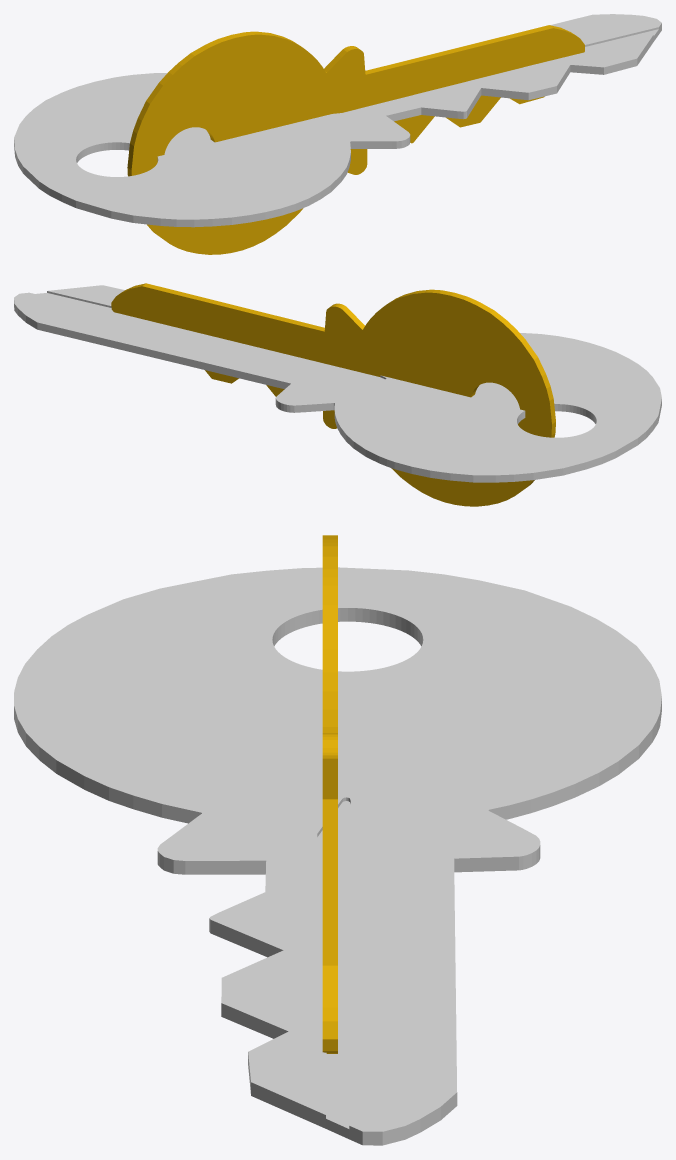
Rendered from simkey.glb.
The picture shows the model from 3 angles, top to bottom: view 1: azimuth 30°, elevation 25°; view 2: azimuth 150°, elevation 25°; view 3: azimuth 270°, elevation 25°; orthographic projection. The views are drawn at different scales.
Parts seen in each view (by area): view 1: Plane.001, Plane; view 2: Plane.001, Plane; view 3: Plane.001, Plane.
Part boxes in pixels (left/top/right/bottom): Plane.001: left=14, top=14, right=661, bottom=227; Plane: left=127, top=25, right=584, bottom=254; Plane.001: left=14, top=285, right=661, bottom=482; Plane: left=111, top=283, right=555, bottom=506; Plane.001: left=14, top=567, right=661, bottom=1145; Plane: left=322, top=535, right=337, bottom=1053.
Bounding box in the file's own units: 9.42 × 3.06 × 4.57.
